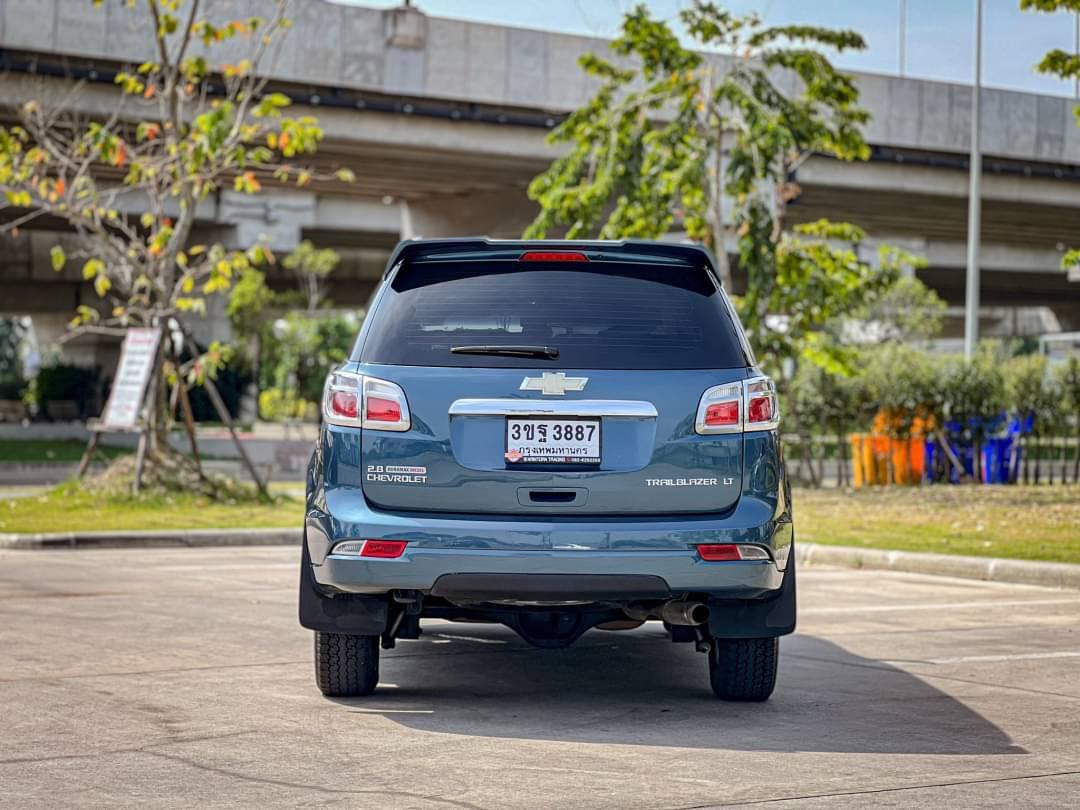license-plate: (503, 414, 605, 469)
